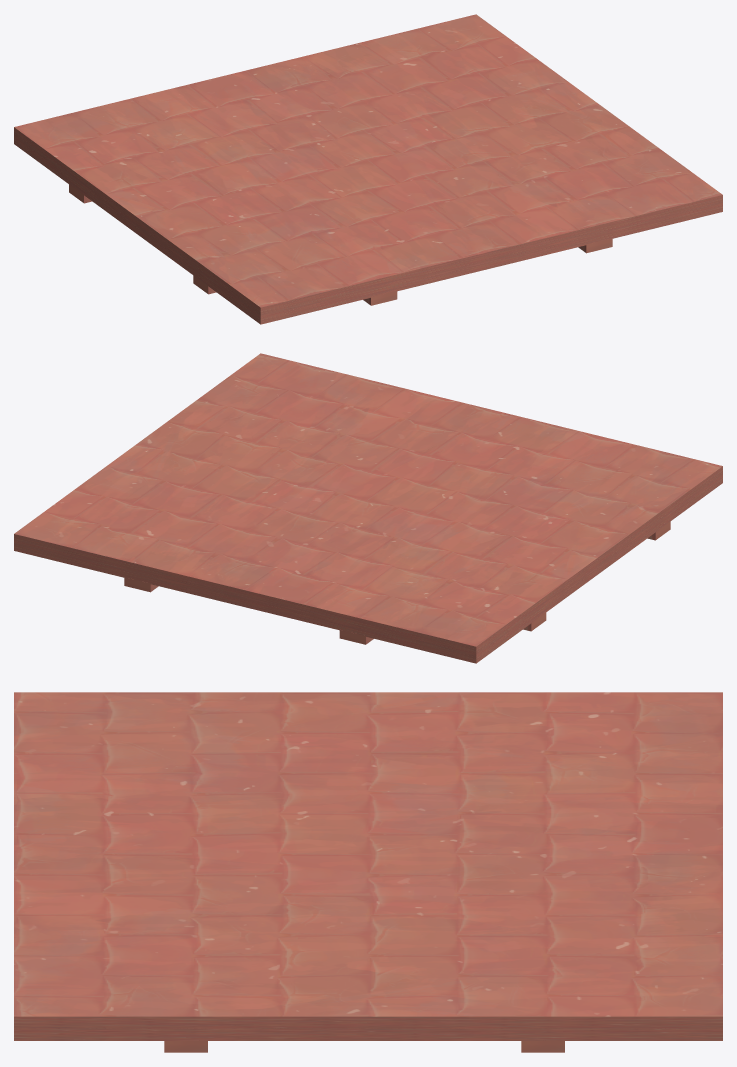
File: sm_building_wapian01_01.fbx
The picture shows the model from 3 angles, top to bottom: view 1: azimuth 30°, elevation 25°; view 2: azimuth 150°, elevation 25°; view 3: azimuth 270°, elevation 25°; orthographic projection. The views are drawn at different scales.
Visible parts, largest first — view 1: Cube_12.001, Cube_12, Cube_12.006; view 2: Cube_12.001, Cube_12, Cube_12.006; view 3: Cube_12.001, Cube_12, Cube_12.006.
Part boxes in pixels (x1,y1,x2,y2): Cube_12.001: (14,14,722,315); Cube_12: (14,136,722,324); Cube_12.006: (69,184,612,305); Cube_12.001: (14,353,722,655); Cube_12: (14,474,722,663); Cube_12.006: (124,521,670,644); Cube_12.001: (14,692,722,1028); Cube_12: (14,1028,722,1040); Cube_12.006: (164,1041,564,1052).
Bounding box in the file's own units: 553 × 28.64 × 511.
